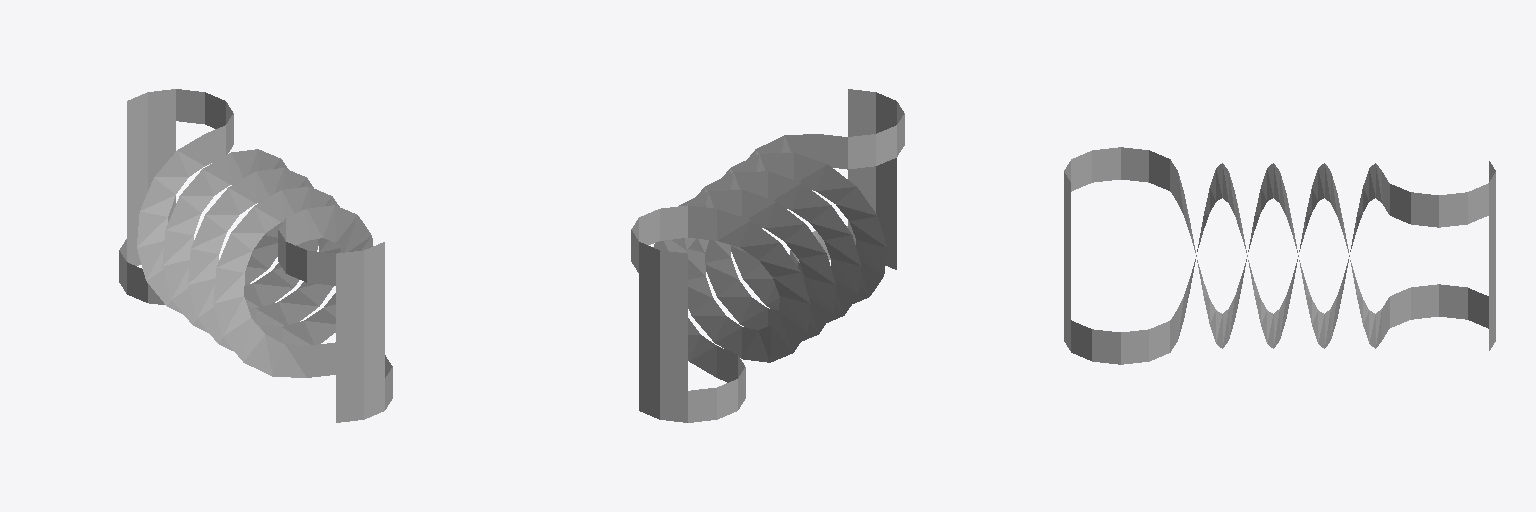
The model's file is lampD.obj.
3 views of the same model, side by side, from view 1: azimuth 30°, elevation 25°; view 2: azimuth 150°, elevation 25°; view 3: azimuth 270°, elevation 25° (orthographic).
Parts seen in each view (by area): view 1: Plane.005_Plane.003; view 2: Plane.005_Plane.003; view 3: Plane.005_Plane.003.
Boxes of the visible parts, box(x1,y1,x2,y2) form: Plane.005_Plane.003: box(119, 89, 392, 422); Plane.005_Plane.003: box(631, 89, 904, 422); Plane.005_Plane.003: box(1064, 147, 1495, 364).
Bounding box in the file's own units: 4.58 × 4.58 × 10.58.